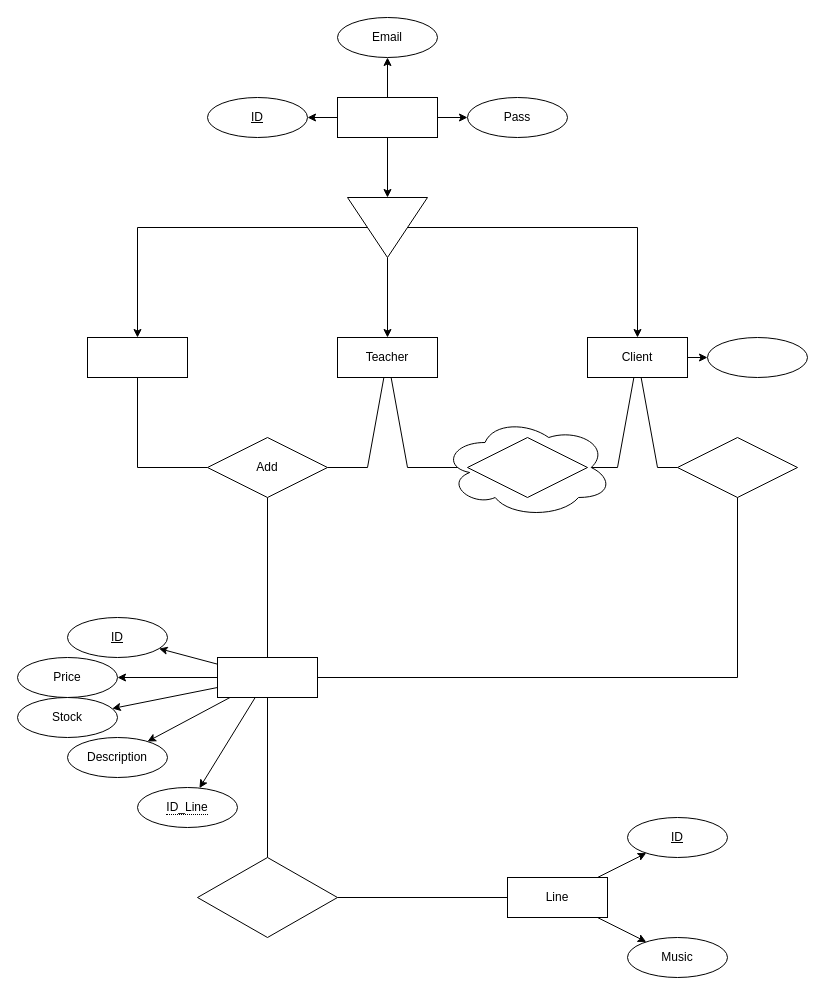
Some shapes in this 825 by 995 pixel diagram are drawn without their labels. The centre of each missing label's shape, as x and y in pixels:
Belong: pixel 267 897
Buy: pixel 737 467
Chat: pixel 527 467
Location: pixel 757 357
Product: pixel 267 677
Student: pixel 137 357
User: pixel 387 117
